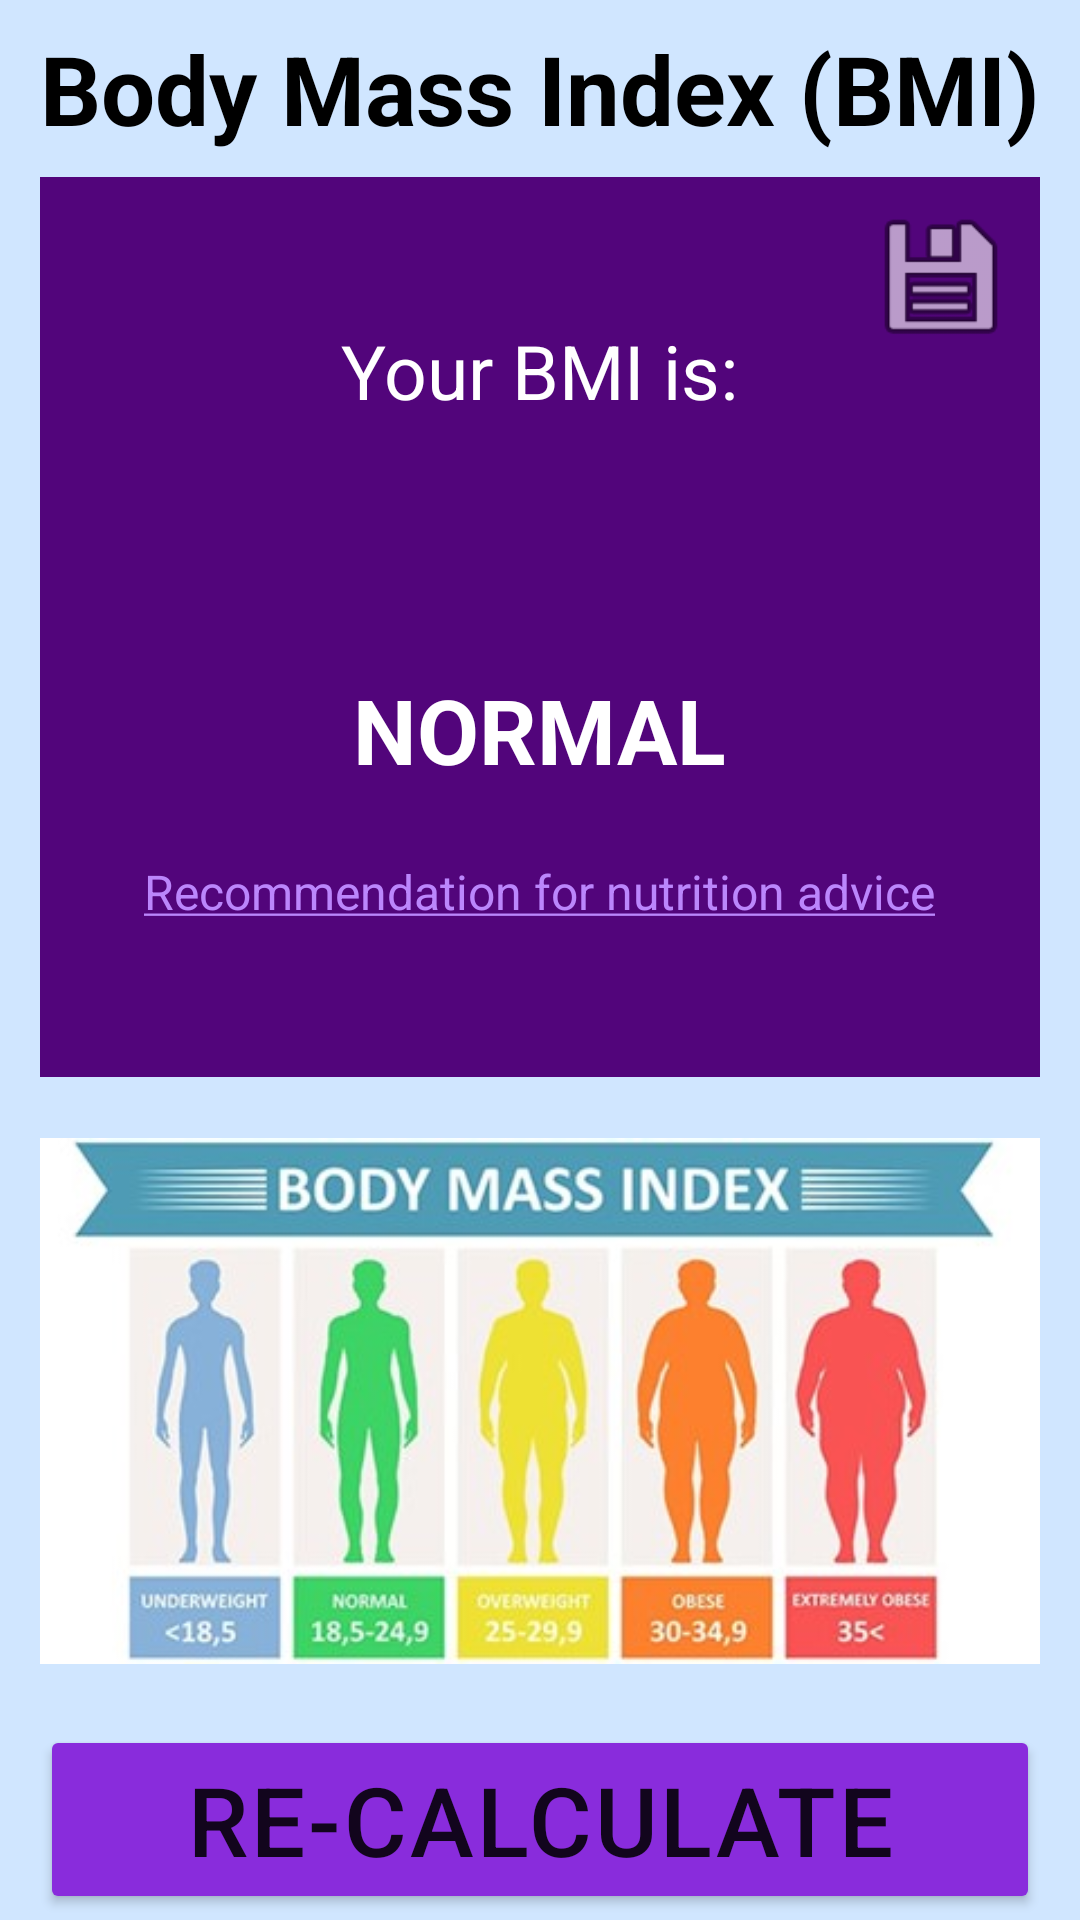

Screen size 1080px x 1920px. Icon name, then its center in pixels as (x=x, y=y):
Save: (x=941, y=277)
